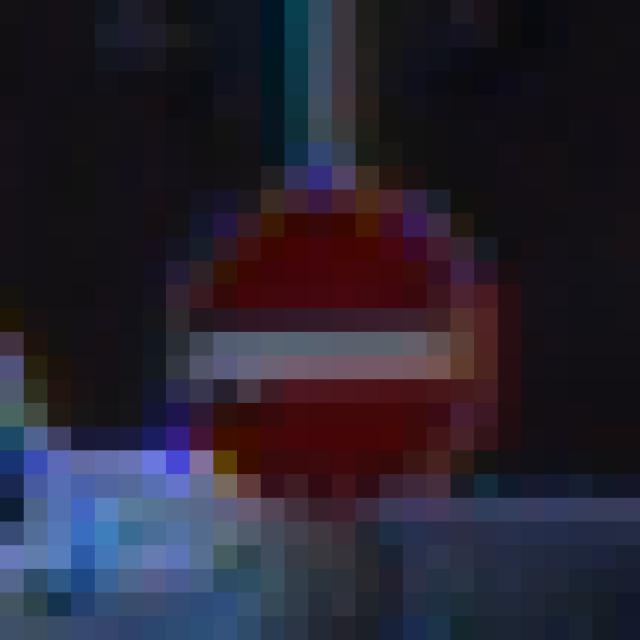No Entry: (143, 143, 523, 523)
